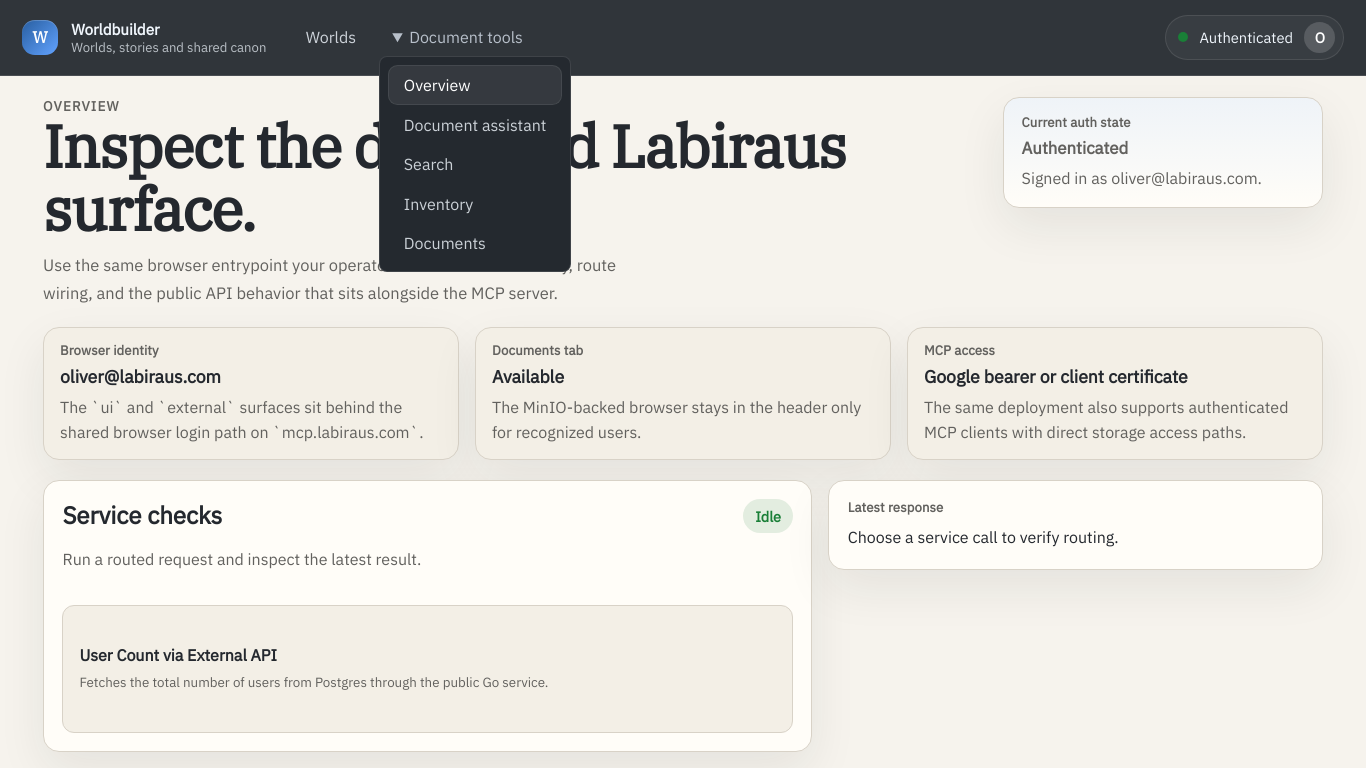
App › shows API response after a successful request
Click the button "User Count via External API".
click(178, 655)  # box [62, 605, 793, 733]
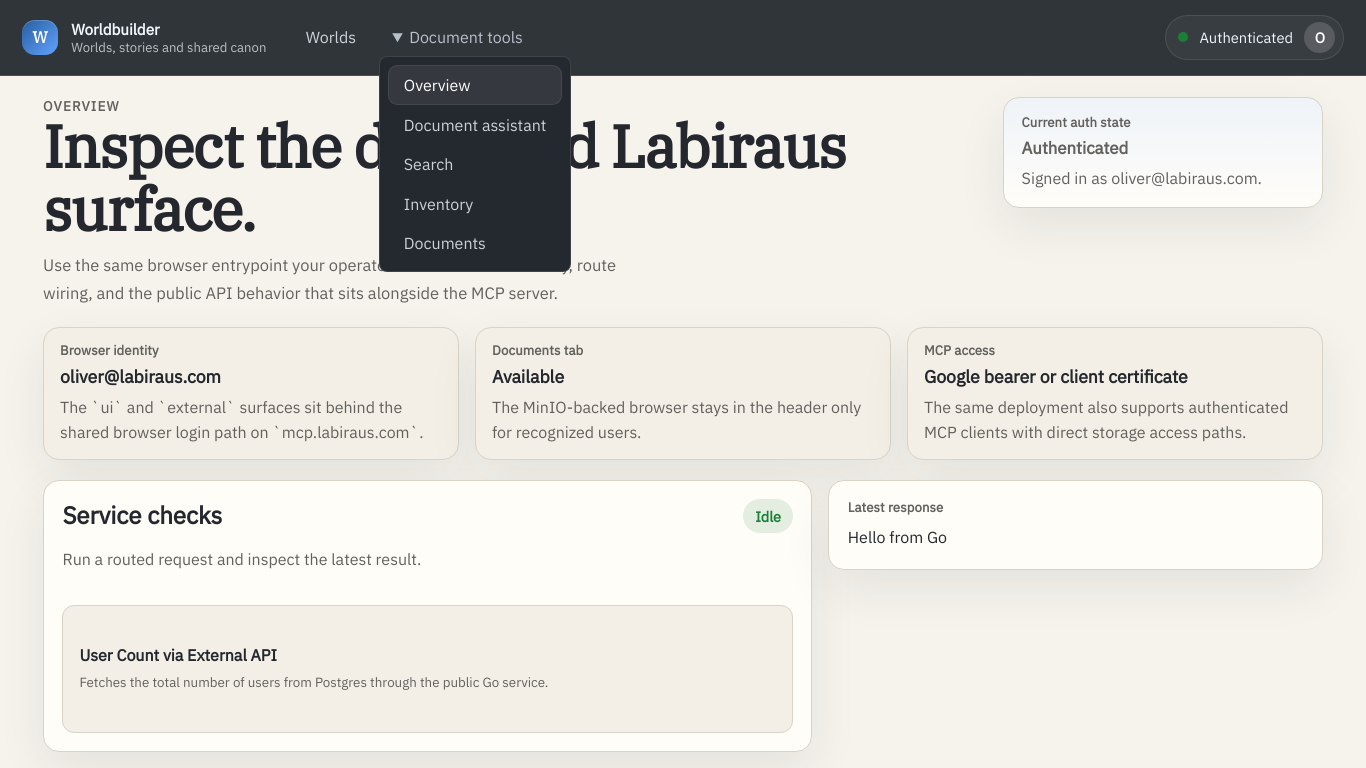
Expected: the text "Hello from Go" is shown, [848, 527, 947, 547]
